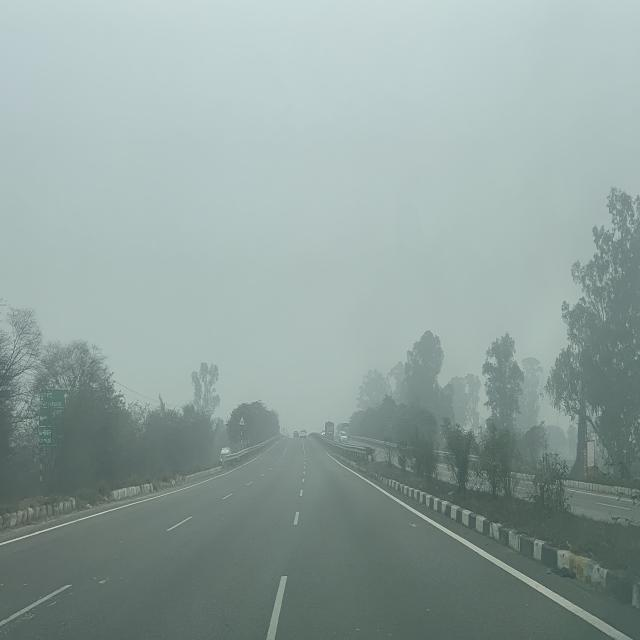WARNING: (239, 415, 245, 426)
